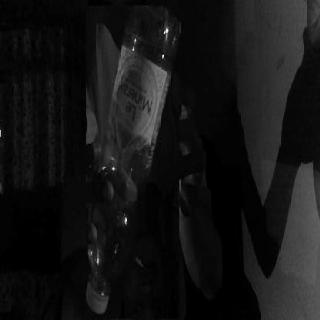plastic_bottles: (87, 6, 179, 318)
